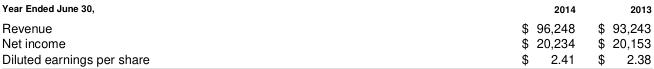table: (1, 0, 650, 66)
table column: (1, 0, 334, 66), (334, 0, 585, 66), (585, 0, 650, 66)
table column header: (1, 0, 650, 16)
table row: (1, 16, 650, 34), (1, 0, 650, 16), (1, 34, 650, 50), (1, 50, 650, 66)
